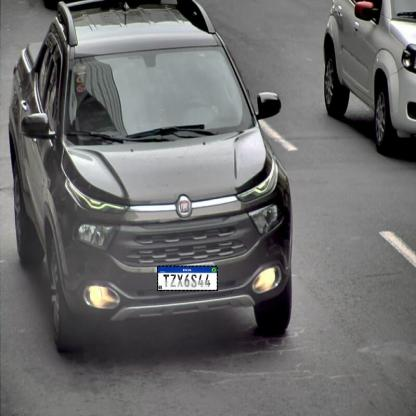PlacaM: (157, 266, 218, 291)
